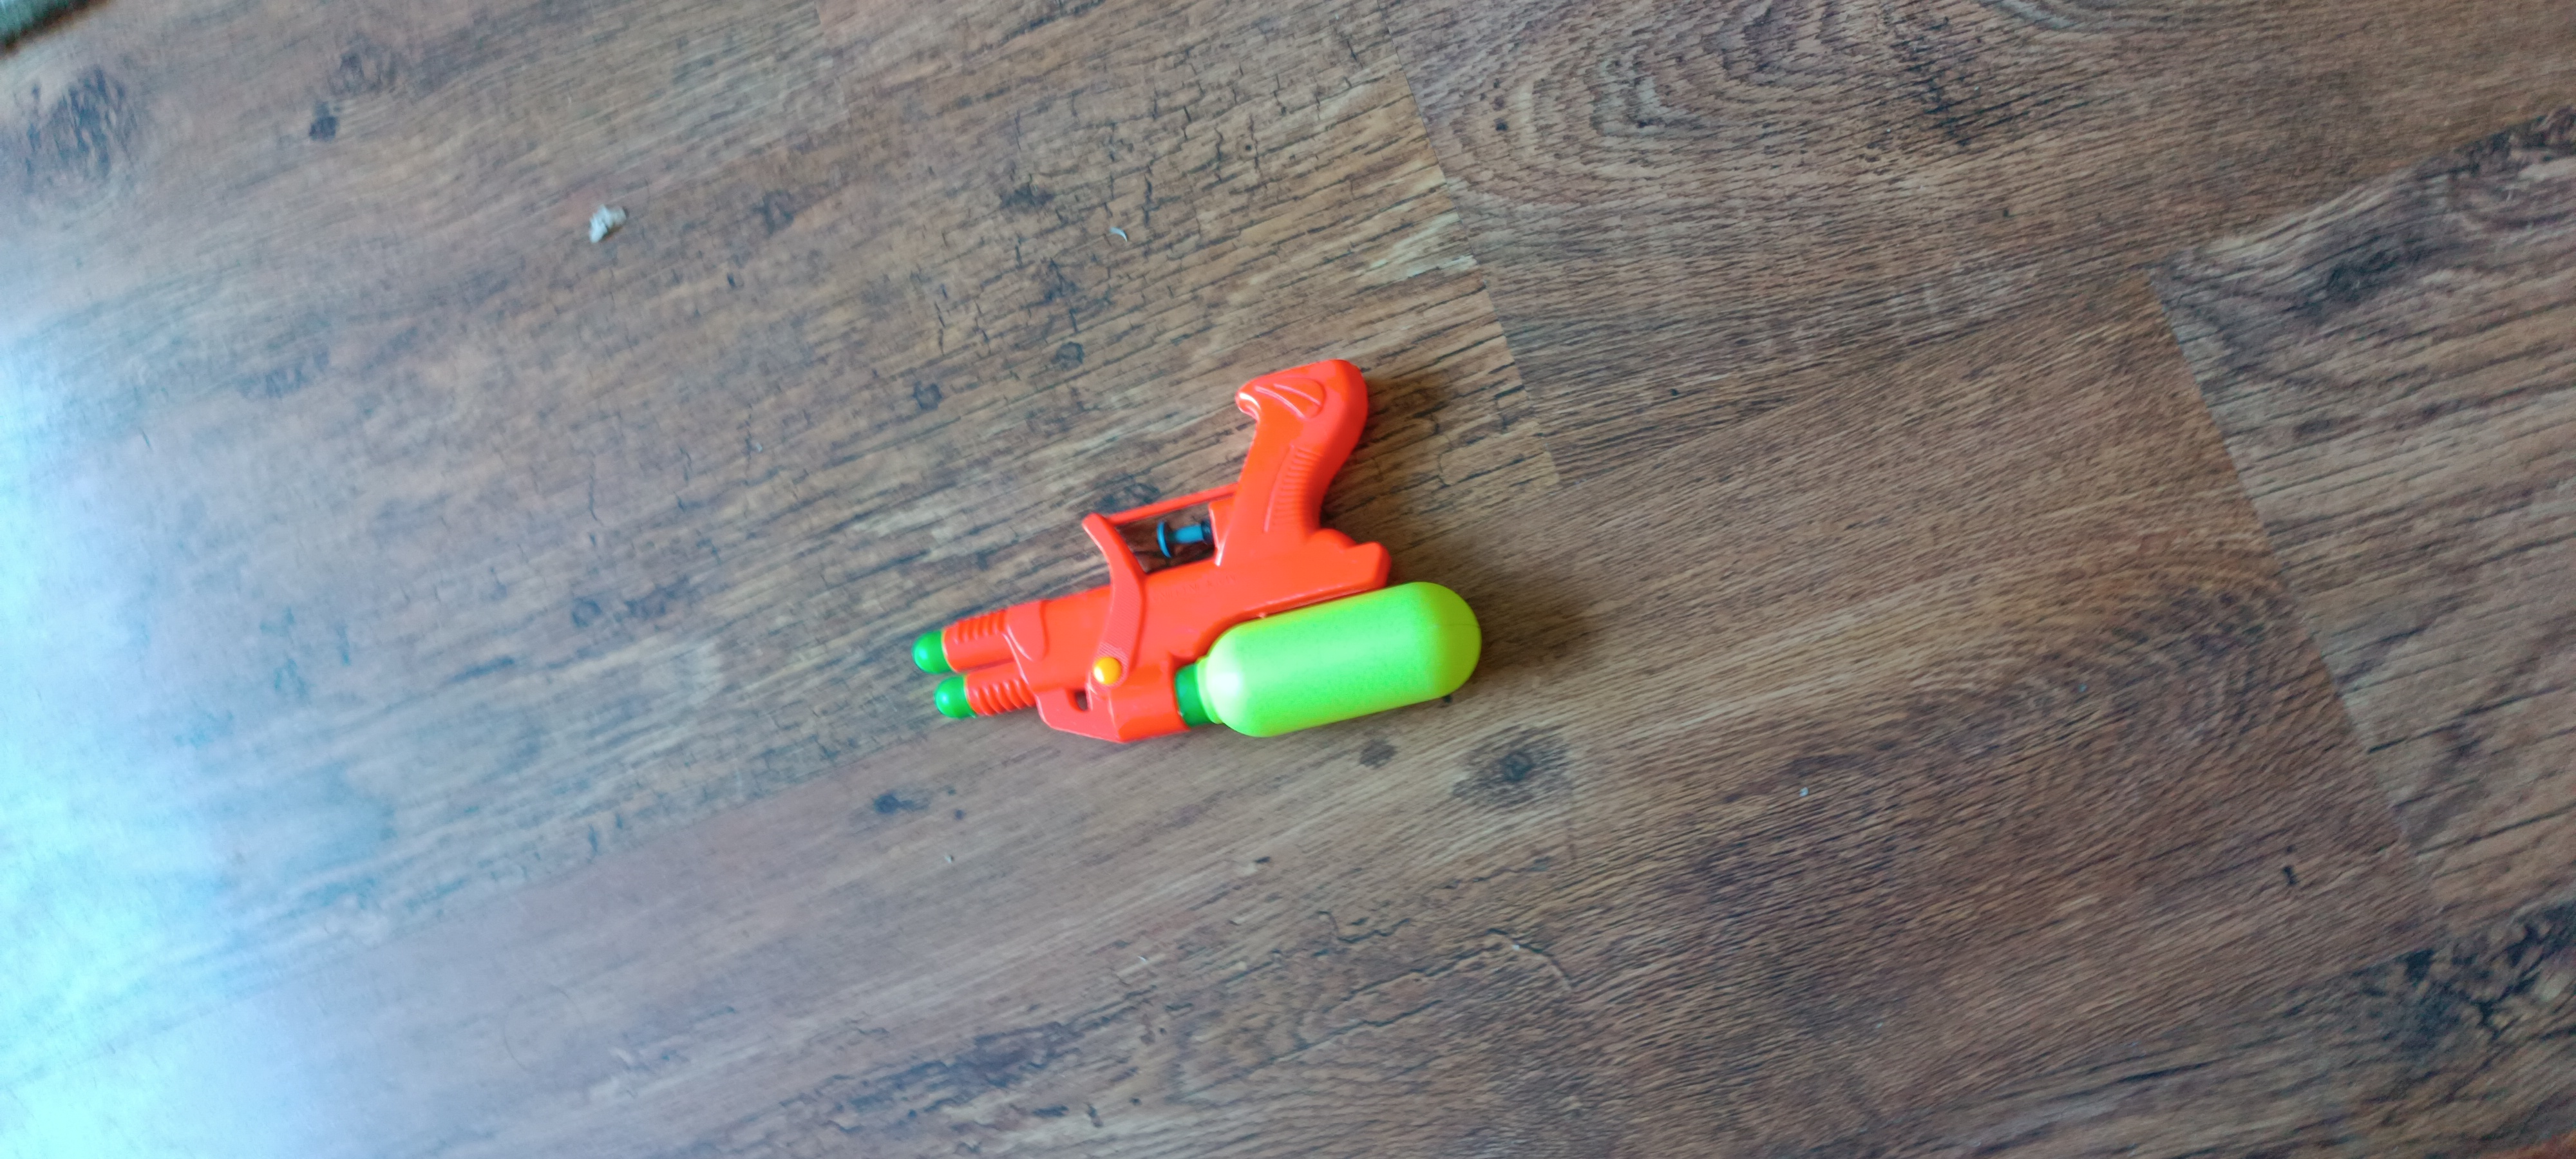Water Gun: (912, 360, 1483, 744)
